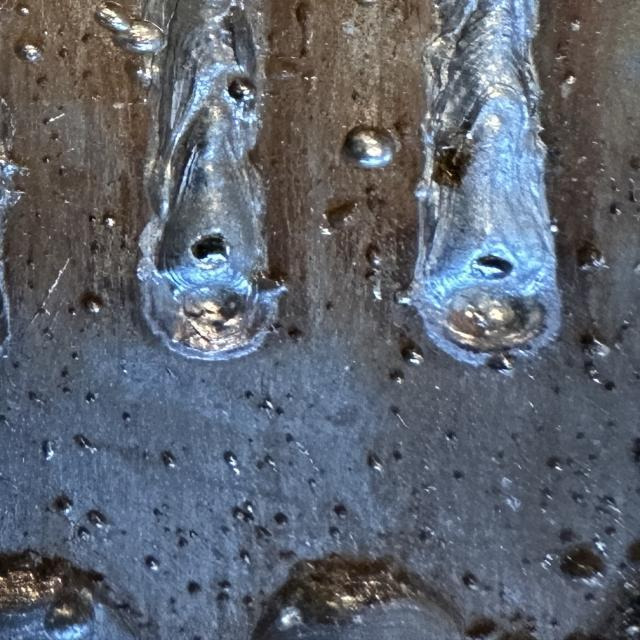Excess Reinforcement: (138, 265, 285, 360), (423, 0, 460, 106), (95, 1, 165, 53), (0, 550, 72, 596), (143, 102, 167, 214), (0, 141, 25, 236), (137, 215, 168, 284), (125, 52, 153, 88), (585, 361, 615, 390), (582, 335, 612, 359), (395, 288, 412, 305)
Spatters: (343, 125, 400, 168), (295, 0, 312, 57), (325, 200, 357, 229), (577, 242, 608, 270), (48, 259, 69, 296), (277, 606, 303, 631), (365, 185, 387, 214), (228, 78, 255, 101), (15, 42, 42, 62), (487, 354, 513, 374), (73, 434, 98, 454), (365, 244, 382, 270), (368, 269, 382, 300), (223, 451, 240, 474), (82, 295, 103, 313), (87, 510, 108, 528), (402, 348, 423, 365), (390, 405, 407, 426), (53, 495, 73, 512), (367, 452, 383, 472), (462, 571, 478, 589), (255, 525, 272, 541), (43, 112, 65, 124), (233, 508, 253, 521), (162, 451, 177, 468), (42, 440, 55, 459), (145, 555, 160, 571), (278, 550, 298, 562), (258, 398, 275, 412), (388, 369, 403, 384), (547, 456, 562, 471), (77, 526, 92, 541), (238, 549, 252, 565), (287, 326, 302, 340), (333, 504, 348, 518), (28, 392, 45, 404), (187, 581, 202, 594), (273, 512, 288, 525), (103, 215, 117, 228), (263, 455, 277, 468), (218, 580, 232, 593), (15, 4, 30, 16), (602, 495, 617, 506), (610, 202, 622, 215), (445, 430, 457, 443), (563, 75, 577, 86), (245, 501, 253, 519), (328, 526, 340, 538), (188, 530, 200, 542), (453, 470, 465, 481), (572, 492, 583, 504), (17, 6, 30, 16), (35, 75, 48, 85), (153, 508, 163, 521), (595, 505, 608, 515), (308, 478, 317, 492), (603, 526, 617, 535), (392, 450, 403, 461), (542, 488, 553, 499), (58, 46, 68, 58), (85, 392, 97, 402), (80, 32, 92, 42), (243, 390, 255, 400), (160, 502, 170, 514), (422, 485, 437, 493), (570, 20, 580, 31), (242, 595, 253, 605), (178, 536, 188, 547), (321, 225, 332, 235), (122, 411, 132, 422), (217, 591, 228, 601), (255, 460, 267, 469), (50, 131, 60, 141), (620, 320, 630, 330), (60, 366, 68, 378), (58, 166, 67, 176), (585, 592, 595, 601), (352, 90, 360, 101), (68, 306, 77, 315), (285, 392, 293, 402), (412, 491, 420, 501), (325, 301, 333, 310), (27, 280, 35, 289), (275, 406, 283, 415), (62, 386, 72, 392), (595, 161, 603, 168), (42, 155, 50, 162), (72, 351, 78, 360), (88, 215, 97, 221)
